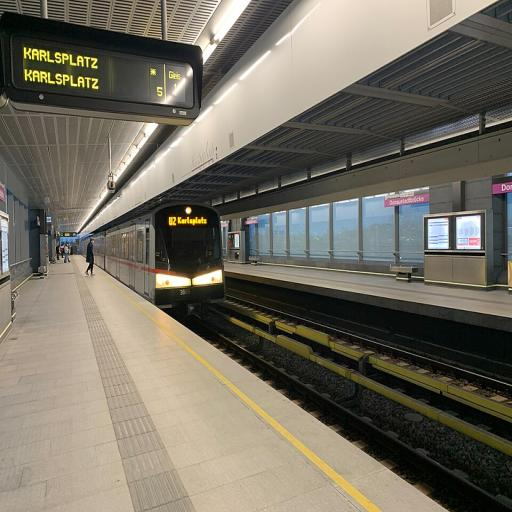V-Wagen: (80, 198, 228, 319)
